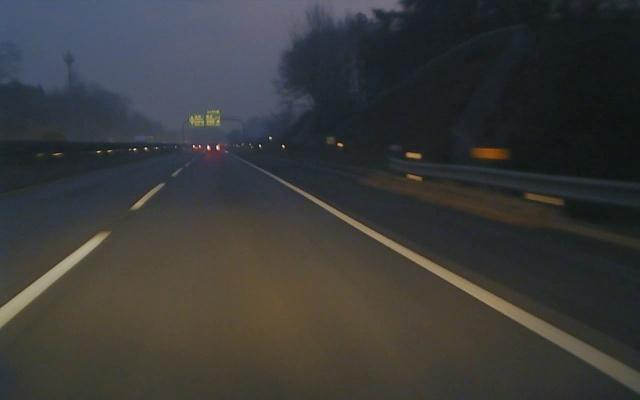lane: (238, 157, 640, 395), (0, 163, 189, 329)
